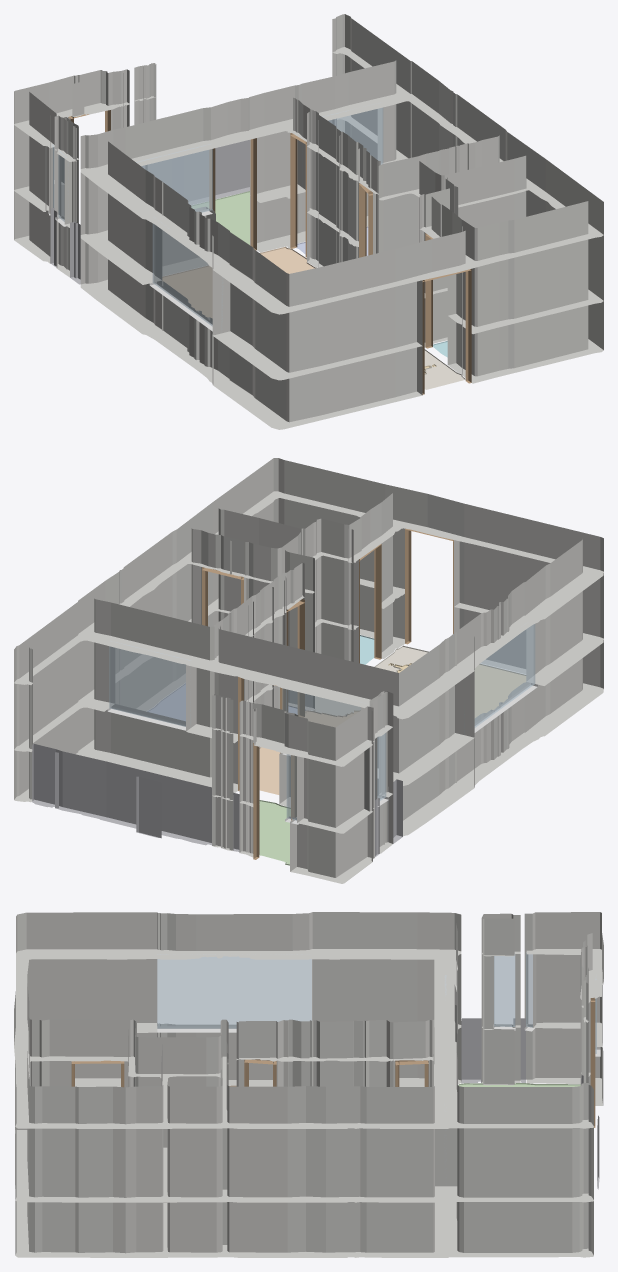
3 views of the same model, one above another, from view 1: azimuth 30°, elevation 25°; view 2: azimuth 150°, elevation 25°; view 3: azimuth 270°, elevation 25° (orthographic). The views are drawn at different scales.
Parts seen in each view (by area): view 1: walls, railings, window_12, window_10, floor_2_Living_Room, window_11, floor_0_Outdoor, door_6, door_1, door_2, door_3, floor_5_Entry (+2 smaller); view 2: walls, railings, window_11, window_12, floor_1_Kitchen, window_10, floor_0_Outdoor, floor_2_Living_Room, floor_5_Entry, door_0, door_5, door_6 (+5 smaller); view 3: walls, window_12, railings, window_9, door_0, window_8, sill_12.
Part boxes in pixels (box(x1,y1,x2,y2)): walls: box(14, 14, 603, 429); railings: box(50, 119, 336, 284); window_12: box(152, 222, 222, 326); window_10: box(136, 144, 212, 212); floor_2_Living_Room: box(162, 246, 316, 317); window_11: box(302, 107, 383, 186); floor_0_Outdoor: box(191, 191, 249, 244); door_6: box(422, 269, 471, 394); door_1: box(209, 138, 256, 250); door_2: box(290, 133, 306, 257); door_3: box(359, 183, 372, 257); floor_5_Entry: box(424, 349, 465, 389); walls: box(14, 458, 603, 883); railings: box(32, 743, 402, 856); window_11: box(109, 641, 190, 726); window_12: box(464, 624, 535, 731); floor_1_Kitchen: box(388, 663, 525, 717); window_10: box(282, 688, 360, 727); floor_0_Outdoor: box(259, 800, 290, 865); floor_2_Living_Room: box(259, 710, 360, 794); floor_5_Entry: box(313, 645, 428, 715); door_0: box(253, 743, 296, 859); door_5: box(359, 544, 381, 663); door_6: box(405, 528, 453, 644); walls: box(14, 912, 603, 1257); window_12: box(157, 954, 311, 1028); railings: box(461, 1018, 599, 1189); window_9: box(494, 954, 515, 1026); door_0: box(590, 997, 595, 1127); window_8: box(526, 952, 532, 1027); sill_12: box(157, 1026, 236, 1032).
Size of the model in its own units: 6.29 by 2.72 by 8.71.
